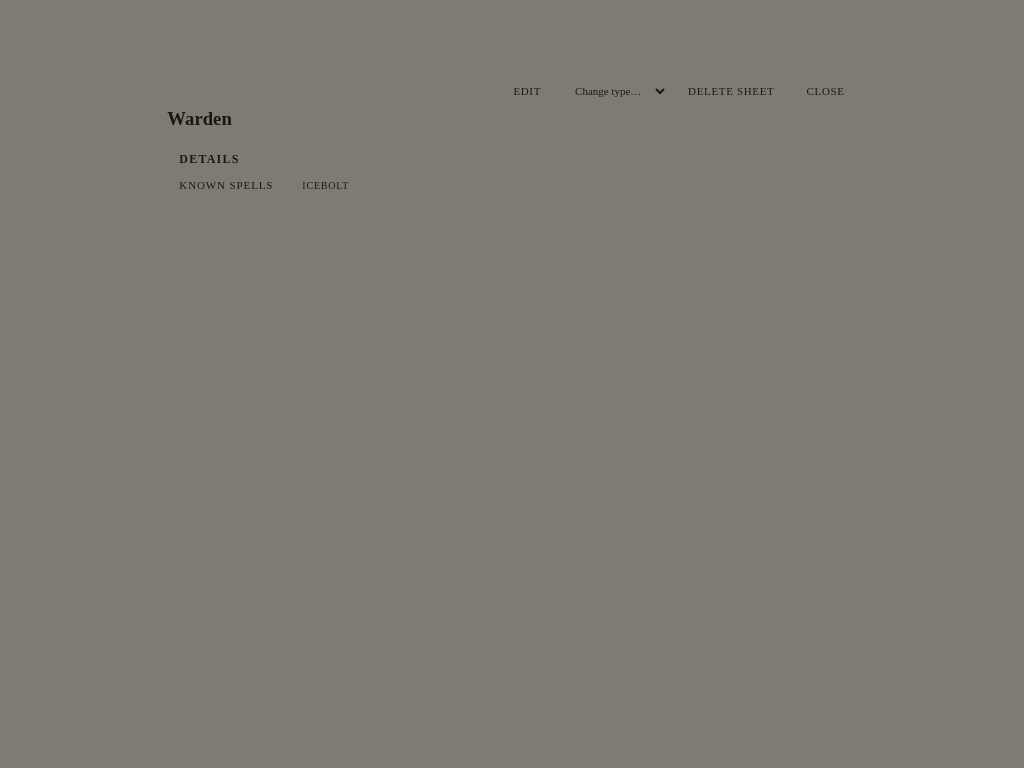
Test: module-content ref preview shows an error and stays open when Instantiate fails
The image size is (1024, 768).
What coordinates should you click on to do the following:
click the button "icebolt"
I would click on:
 (329, 186)
Its box is [299, 177, 359, 194].
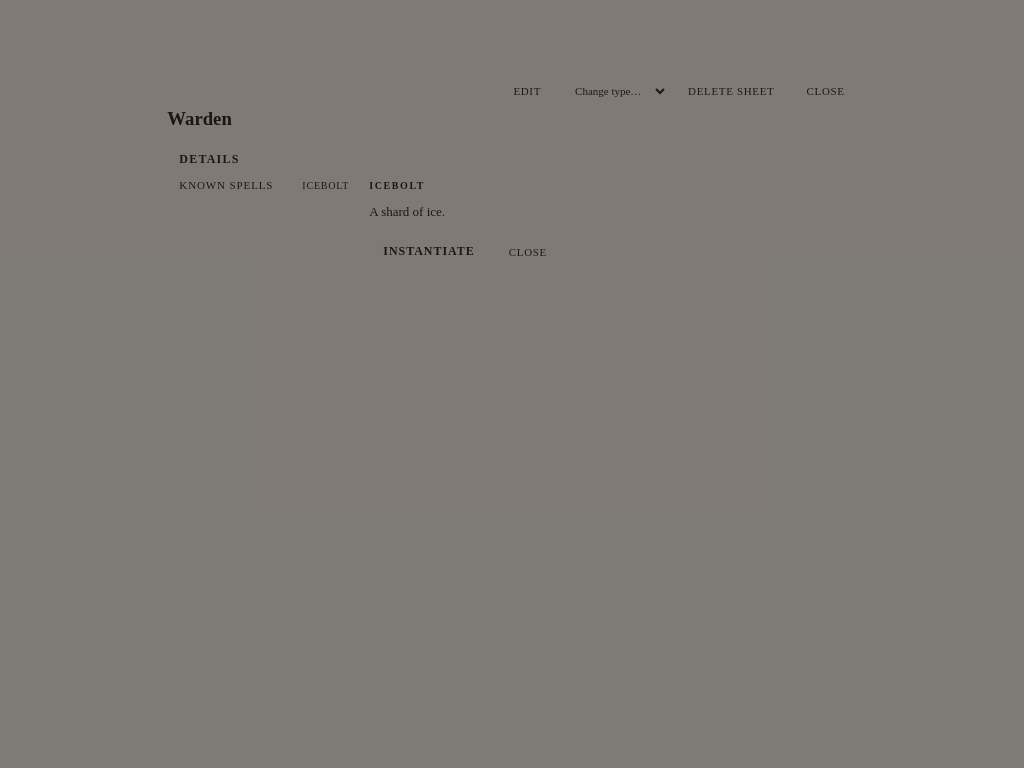
Expected: the text "A shard of ice." is shown, [369, 204, 445, 219]
What coordinates should you click on to do the following:
click the button "Instantiate"
I would click on:
 (429, 252)
Its box is [369, 236, 489, 267].
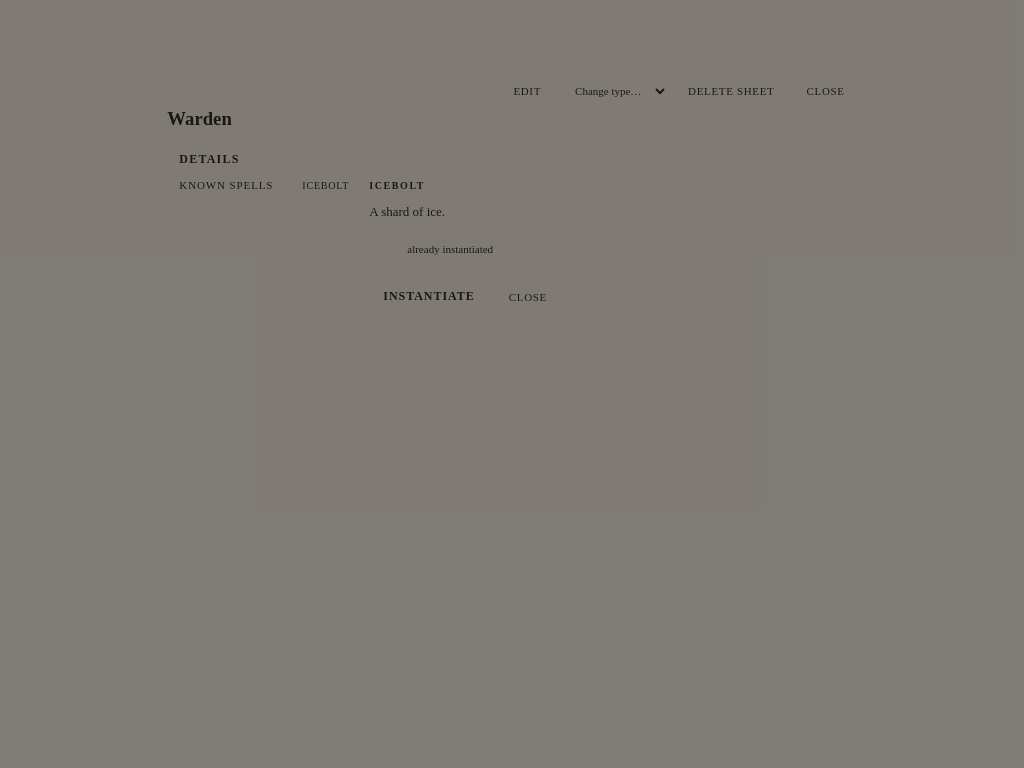
Expected: the text "A shard of ice." is shown, [369, 204, 445, 219]
Expected: the text "already instantiated" is shown, [407, 243, 493, 255]
